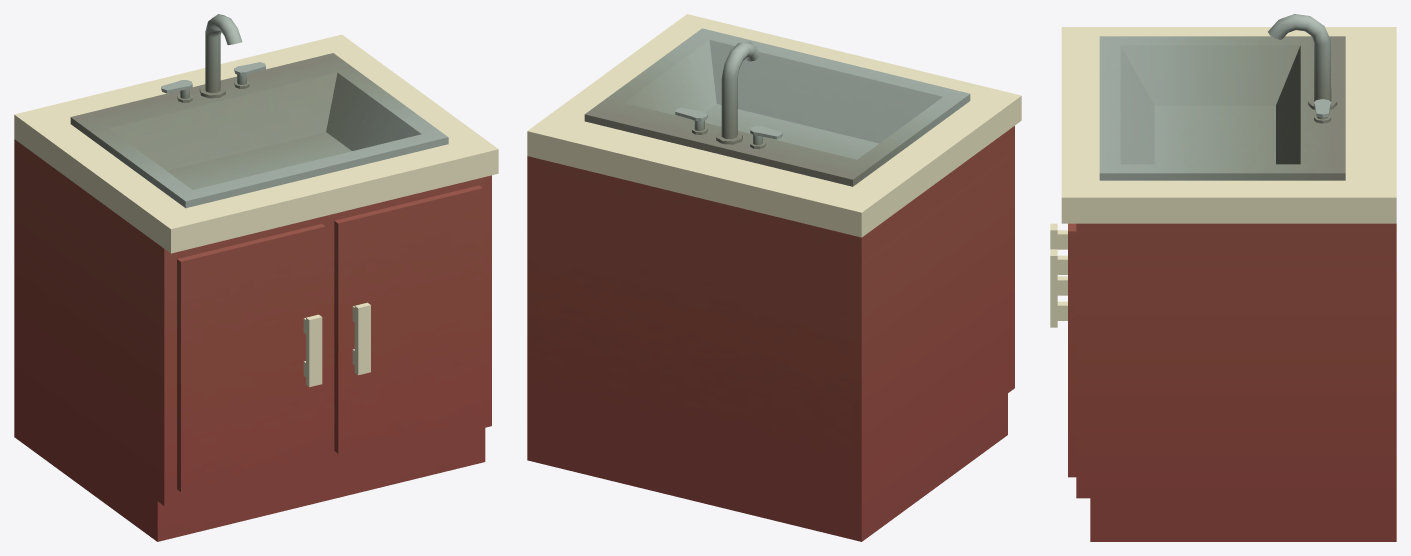
Rendered from SM_Cabinet_Sink_04.fbx.
3 views of the same model, side by side, from view 1: azimuth 30°, elevation 25°; view 2: azimuth 150°, elevation 25°; view 3: azimuth 270°, elevation 25° (orthographic). The views are drawn at different scales.
Visible parts, largest first — view 1: SM_Cabinet_Sink_04; view 2: SM_Cabinet_Sink_04; view 3: SM_Cabinet_Sink_04.
Part boxes in pixels (x1,y1,x2,y2): SM_Cabinet_Sink_04: (14, 14, 498, 541); SM_Cabinet_Sink_04: (527, 14, 1021, 541); SM_Cabinet_Sink_04: (1050, 14, 1396, 541).
Bounding box in the file's own units: 114 × 138 × 97.83.
